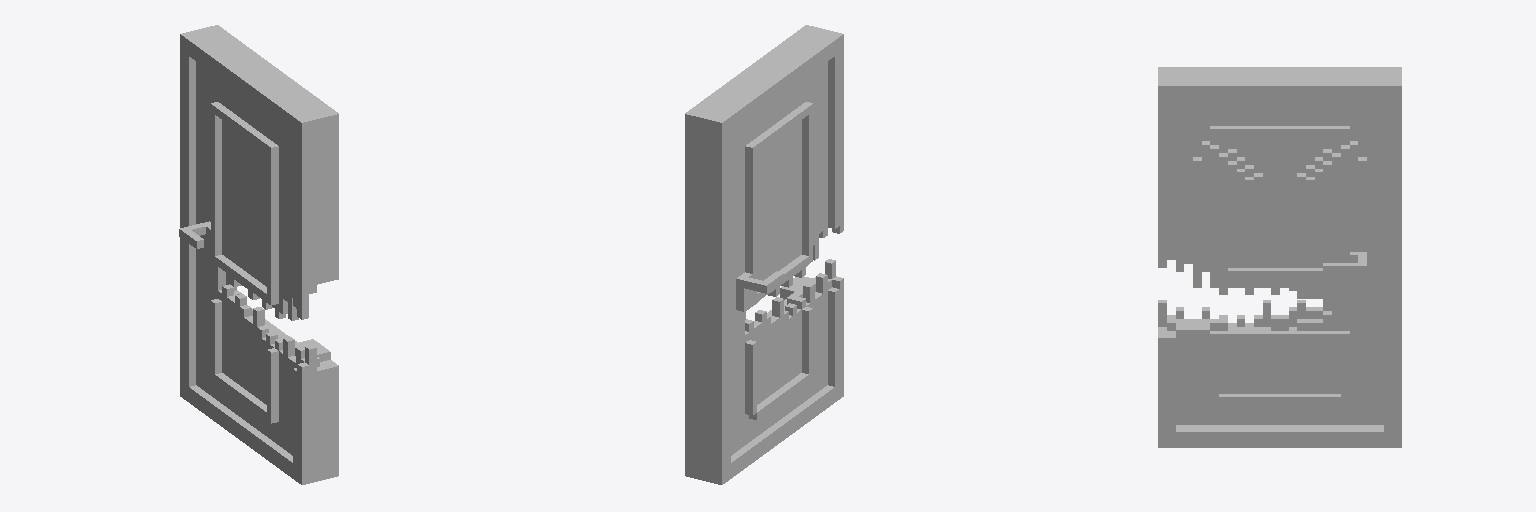
Rendered from DOOR MONSTER EVOLVED (ROOD).obj.
3 views of the same model, side by side, from view 1: azimuth 30°, elevation 25°; view 2: azimuth 150°, elevation 25°; view 3: azimuth 270°, elevation 25° (orthographic).
Visible parts, largest first — view 1: object 1; view 2: object 1; view 3: object 1.
Part boxes in pixels (bbox=[...]): object 1: bbox=[179, 25, 338, 484]; object 1: bbox=[685, 25, 843, 484]; object 1: bbox=[1158, 67, 1401, 447].
Bounding box in the file's own units: 1 × 4.6 × 2.8.